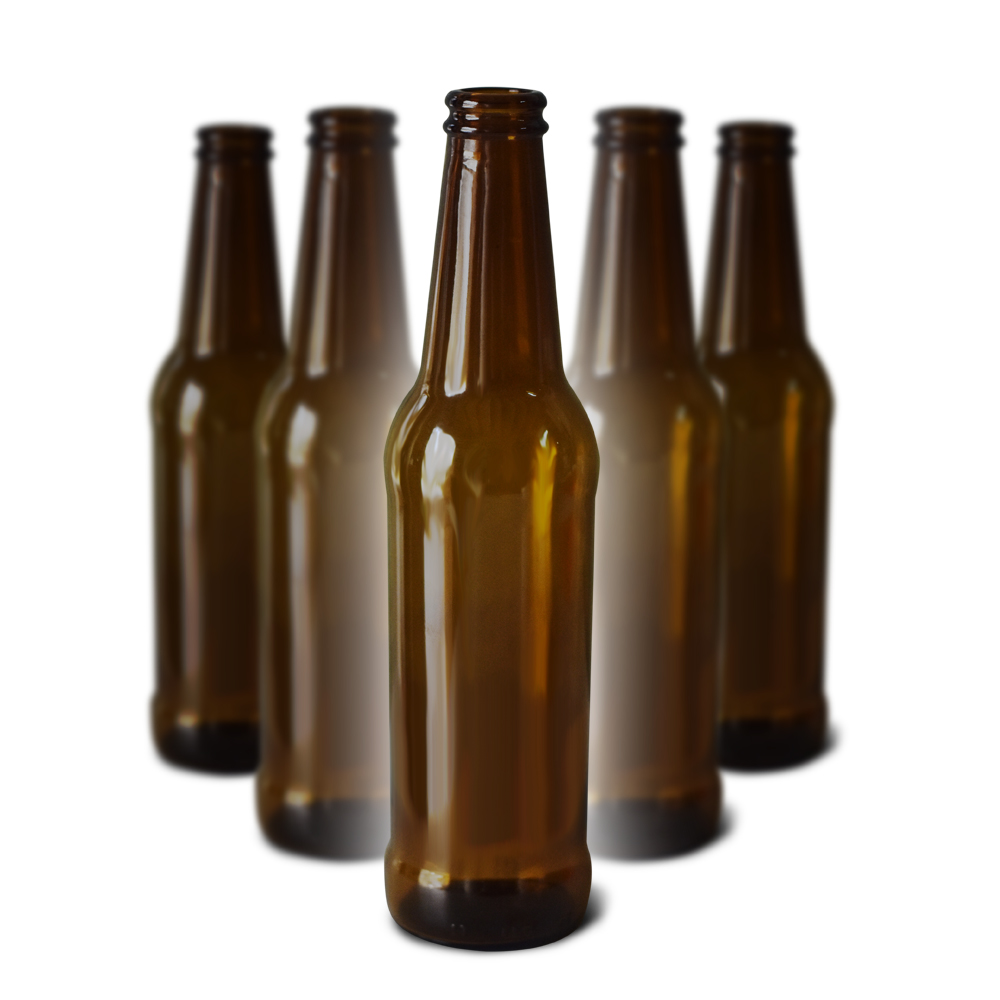glass_bottle: (376, 81, 607, 957), (248, 98, 429, 872), (549, 98, 730, 867), (145, 118, 305, 779), (689, 103, 843, 782)
